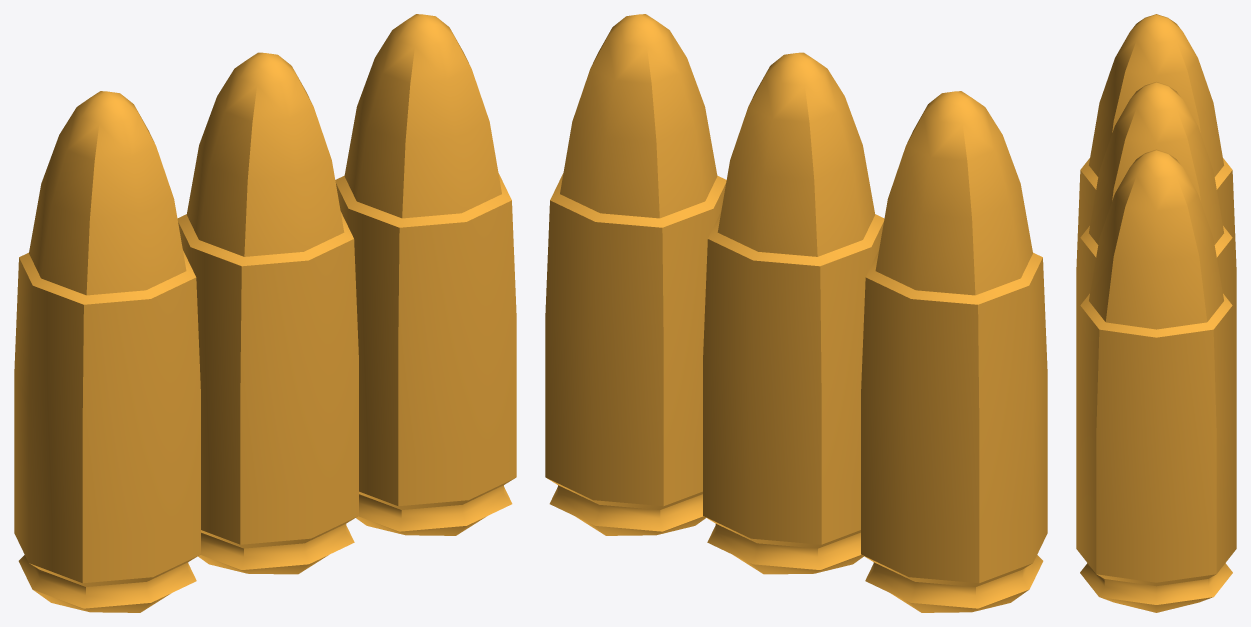
File: Bullets Pickup.glb
The picture shows the model from 3 angles, left to right: view 1: azimuth 30°, elevation 25°; view 2: azimuth 150°, elevation 25°; view 3: azimuth 270°, elevation 25°; orthographic projection. The views are drawn at different scales.
Visible parts, largest first — view 1: Pickup_Bullets; view 2: Pickup_Bullets; view 3: Pickup_Bullets.
Part boxes in pixels (bbox=[...]): Pickup_Bullets: bbox=[14, 14, 516, 612]; Pickup_Bullets: bbox=[545, 14, 1047, 612]; Pickup_Bullets: bbox=[1076, 14, 1236, 612].
Size of the model in its own units: 0.8284 by 0.8421 by 0.2761.
Materials: 1 (1 with a texture image).
